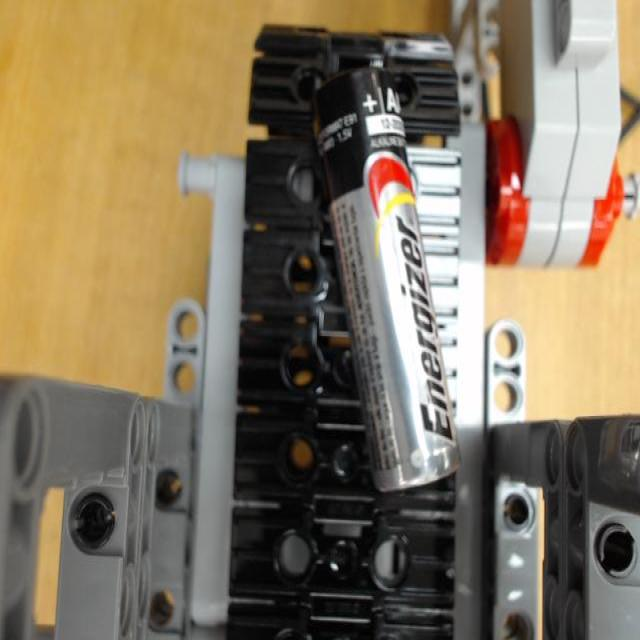AA: (312, 60, 462, 491)
